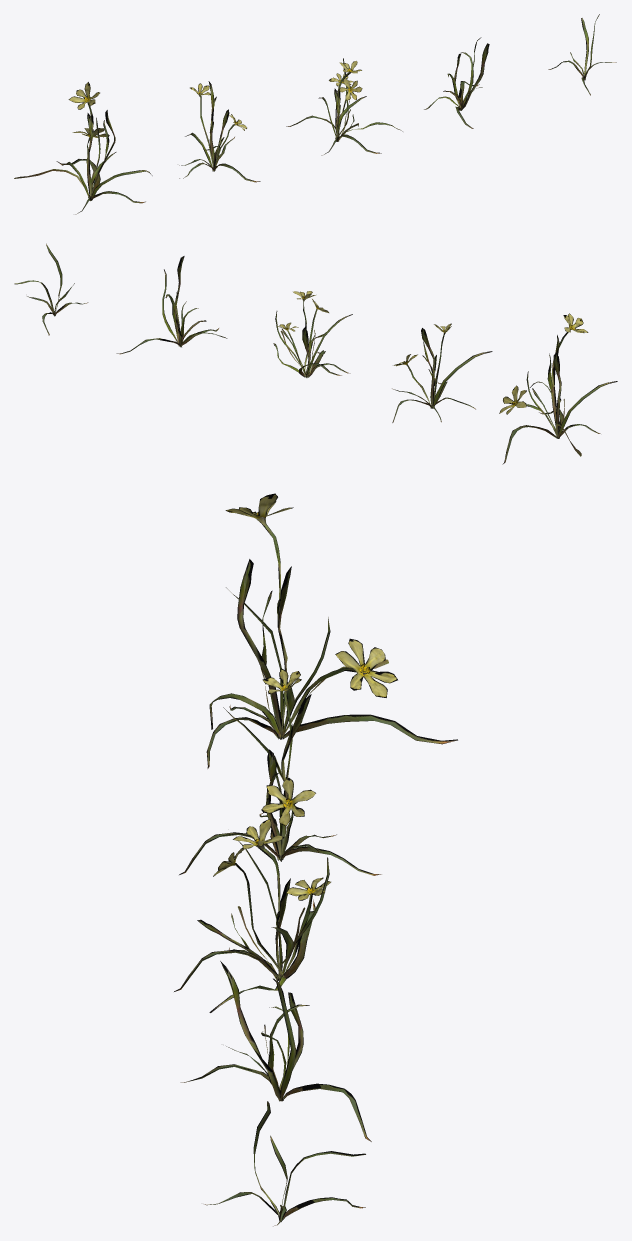
Rendered from flower_empodium.glb.
3 views of the same model, one above another, from view 1: azimuth 30°, elevation 25°; view 2: azimuth 150°, elevation 25°; view 3: azimuth 270°, elevation 25° (orthographic). The views are drawn at different scales.
Visible parts, largest first — view 1: flower_empodium_a_LOD0, flower_empodium_c_LOD0, flower_empodium_b_LOD0, flower_empodium_d_LOD0, flower_empodium_e_LOD0; view 2: flower_empodium_a_LOD0, flower_empodium_c_LOD0, flower_empodium_b_LOD0, flower_empodium_d_LOD0, flower_empodium_e_LOD0; view 3: flower_empodium_a_LOD0, flower_empodium_c_LOD0, flower_empodium_b_LOD0, flower_empodium_d_LOD0, flower_empodium_e_LOD0.
Boxes of the visible parts, <box> form: flower_empodium_a_LOD0: <box>14,82,152,214</box>; flower_empodium_c_LOD0: <box>286,58,402,155</box>; flower_empodium_b_LOD0: <box>179,81,260,182</box>; flower_empodium_d_LOD0: <box>424,37,489,128</box>; flower_empodium_e_LOD0: <box>548,14,616,95</box>; flower_empodium_a_LOD0: <box>499,313,617,464</box>; flower_empodium_c_LOD0: <box>273,291,352,377</box>; flower_empodium_b_LOD0: <box>392,323,492,422</box>; flower_empodium_d_LOD0: <box>116,256,227,354</box>; flower_empodium_e_LOD0: <box>14,243,88,335</box>; flower_empodium_a_LOD0: <box>206,493,457,768</box>; flower_empodium_c_LOD0: <box>174,819,330,1012</box>; flower_empodium_b_LOD0: <box>179,669,381,875</box>; flower_empodium_d_LOD0: <box>180,961,371,1141</box>; flower_empodium_e_LOD0: <box>204,1101,365,1226</box>.
Size of the model in its own units: 1.32 by 0.2684 by 0.2837.
1 material, 1 textured.
